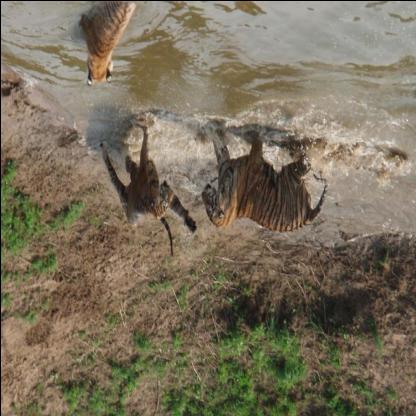tiger: (197, 174, 224, 224), (150, 175, 174, 225)
